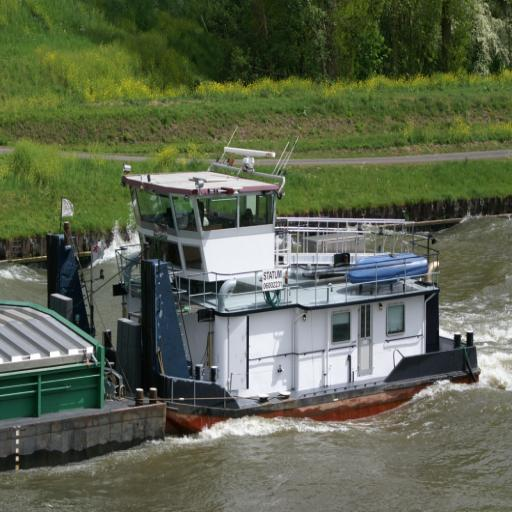tugboat: (45, 145, 484, 439)
